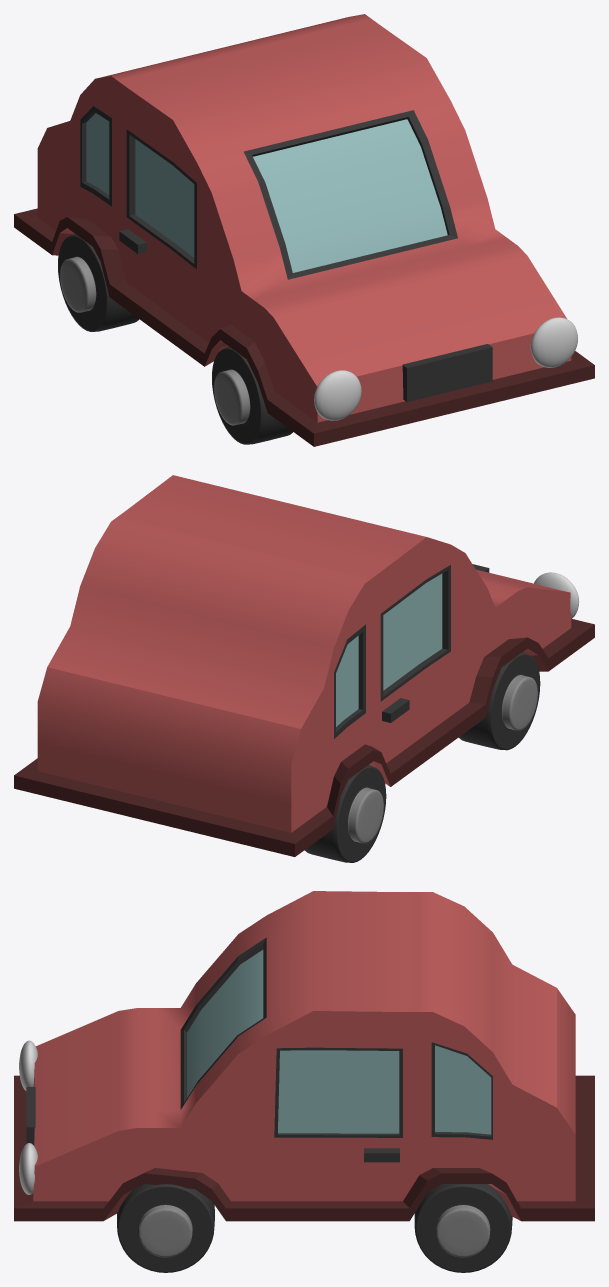
The model's file is car#2.fbx.
3 views of the same model, one above another, from view 1: azimuth 30°, elevation 25°; view 2: azimuth 150°, elevation 25°; view 3: azimuth 270°, elevation 25° (orthographic). The views are drawn at different scales.
Parts seen in each view (by area): view 1: pCube20, pCylinder19, pCylinder15, pSphere11, pCube8; view 2: pCube20, pCylinder19, pCylinder15, pSphere11; view 3: pCube20, pCylinder18, pCylinder16, pSphere11, pCube8.
Part boxes in pixels (box(x1,y1,x2,y2)): pCube20: box(14, 14, 594, 446); pCylinder19: box(212, 346, 292, 444); pCylinder15: box(58, 234, 139, 331); pSphere11: box(314, 317, 577, 420); pCube8: box(402, 344, 492, 401); pCube20: box(14, 475, 594, 856); pCylinder19: box(458, 652, 540, 750); pCylinder15: box(304, 765, 386, 862); pSphere11: box(534, 572, 579, 618); pCube20: box(14, 891, 594, 1221); pCylinder18: box(117, 1184, 214, 1272); pCylinder16: box(414, 1184, 512, 1272); pSphere11: box(19, 1040, 37, 1194); pCube8: box(26, 1087, 35, 1145).
Bounding box in the file's own units: 6.27 × 5.22 × 10.77.
